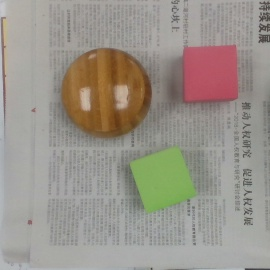chess: (64, 48, 153, 141)
